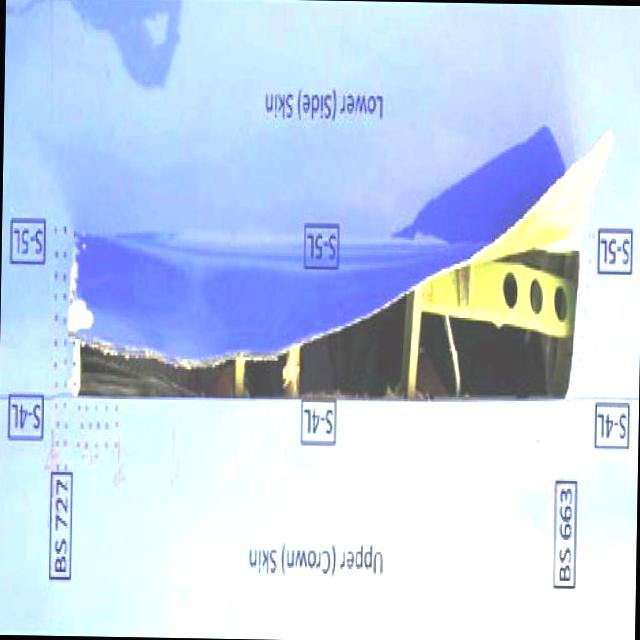crack: (70, 121, 610, 409)
